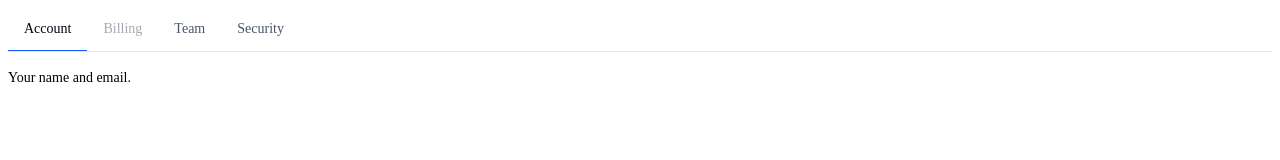
Scenario: rendering › a click switches the panel
Click the tab "Team".
click(190, 30)  # box [158,8,221,52]
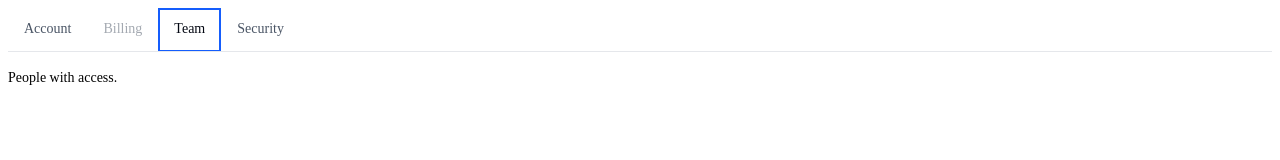
Result: the panel reads "People with access." at [8,70,117,85]
